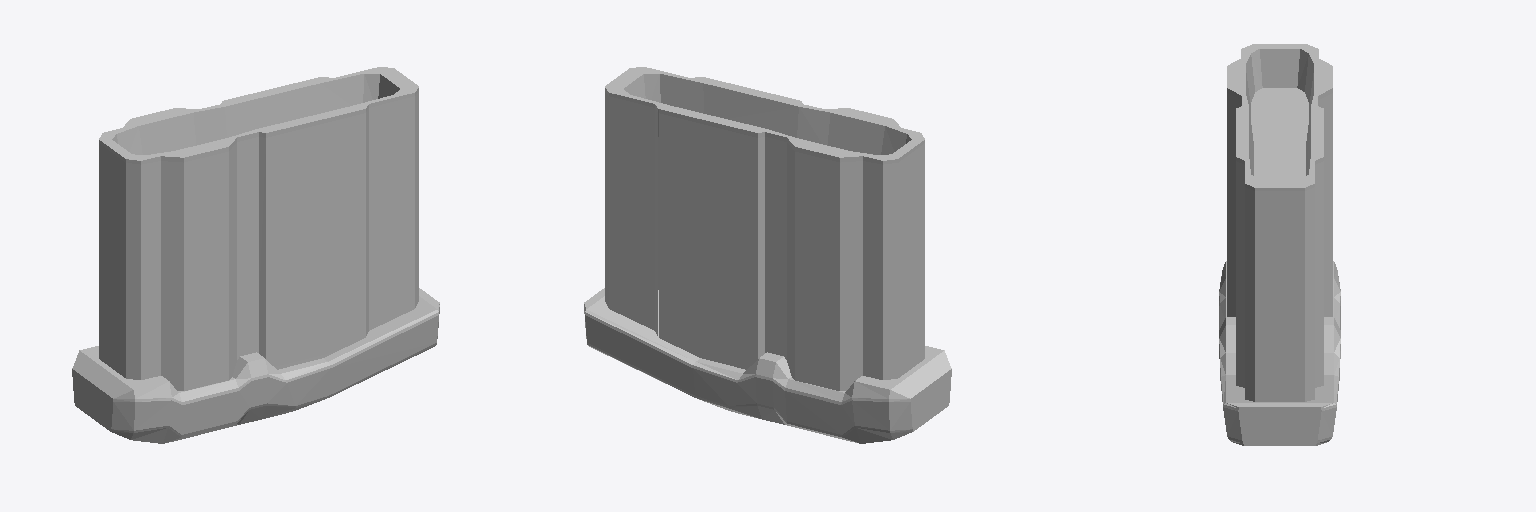
Rendered from Sniper_Mag.obj.
The picture shows the model from 3 angles: view 1: azimuth 30°, elevation 25°; view 2: azimuth 150°, elevation 25°; view 3: azimuth 270°, elevation 25°; orthographic projection.
Visible parts, largest first — view 1: ungrouped; view 2: ungrouped; view 3: ungrouped.
Boxes of the visible parts, box(x1,y1,x2,y2) form: ungrouped: box(72, 67, 439, 443); ungrouped: box(584, 67, 951, 443); ungrouped: box(1219, 44, 1340, 445).
Bounding box in the file's own units: 0.1842 × 0.153 × 0.06.